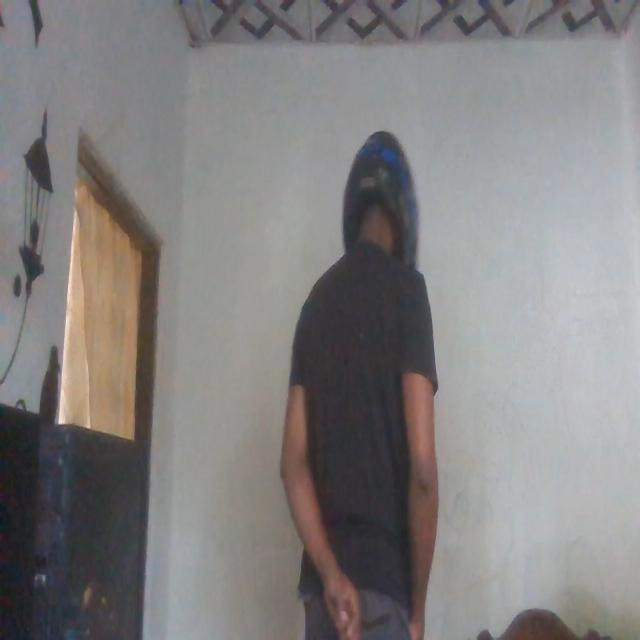Helmet_Wearer: (332, 124, 424, 302)
Person: (273, 138, 439, 640)
